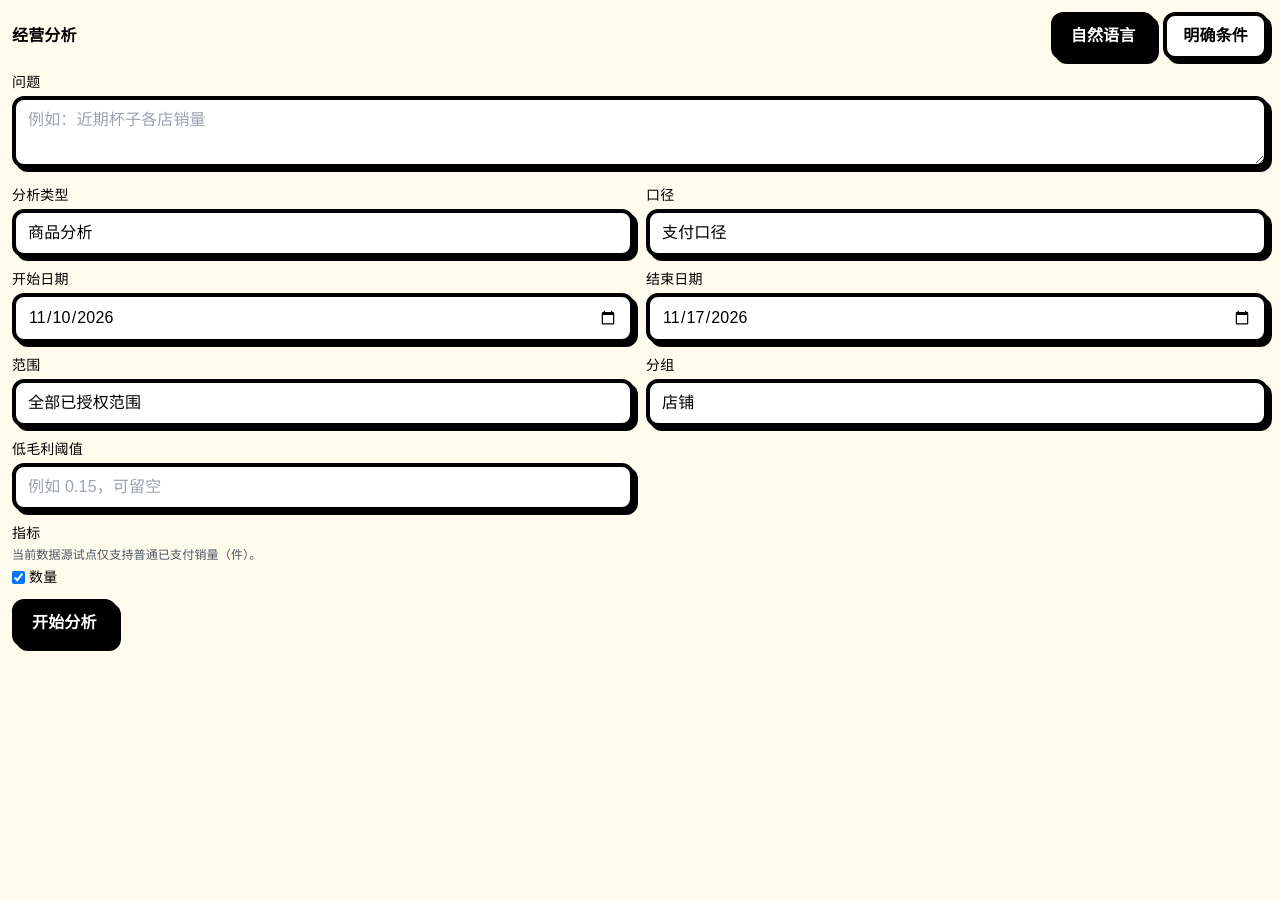
Test: one App source authority at consumer boundaries › a resolve accepted before sync cannot continue into create after the status changes
The image size is (1280, 900).
Type "晚回解析草稿" into the text box labelled "问题".
click(640, 132); type("晚回解析草稿")  # box x1=12 y1=96 x2=1268 y2=168
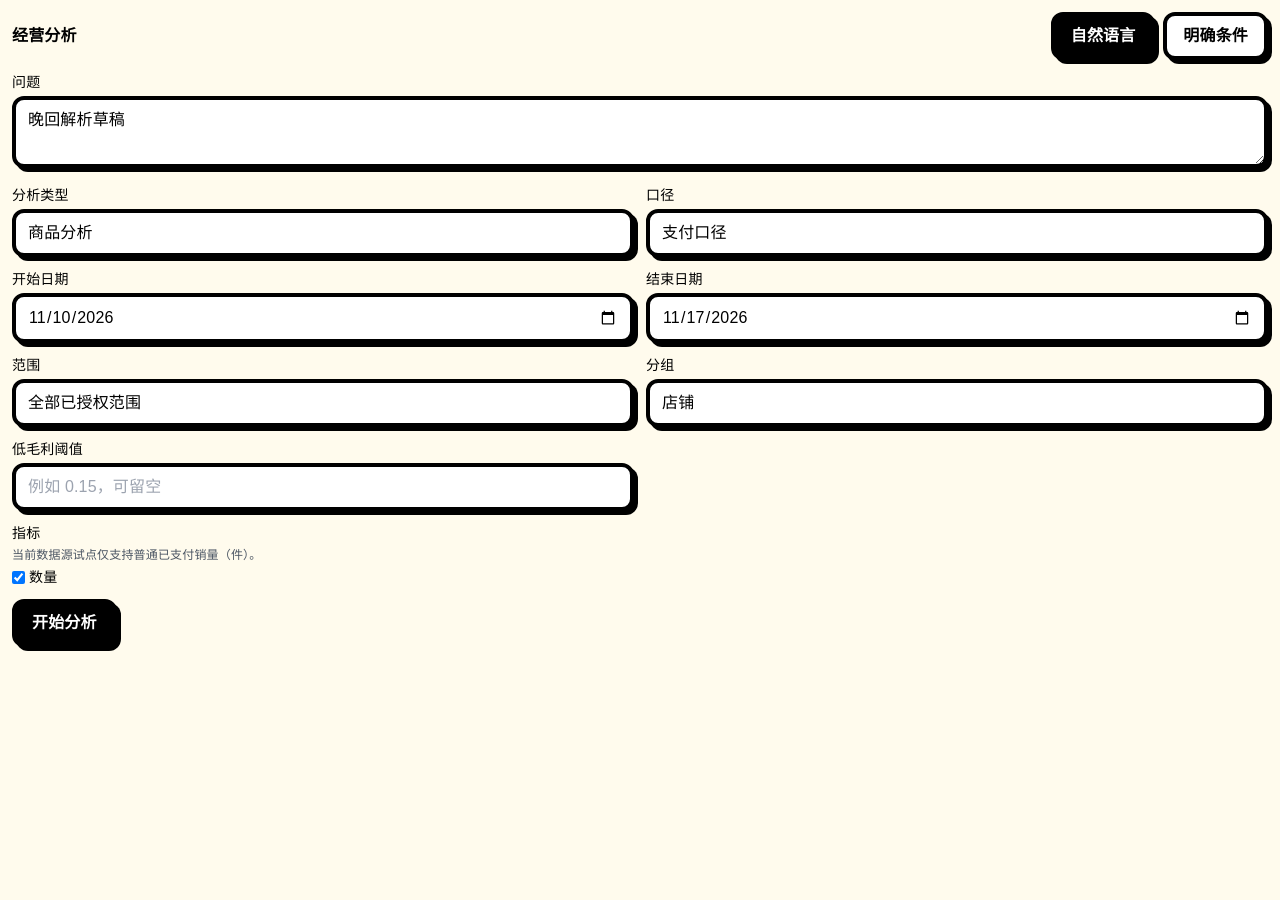
Submit the form "经营分析"
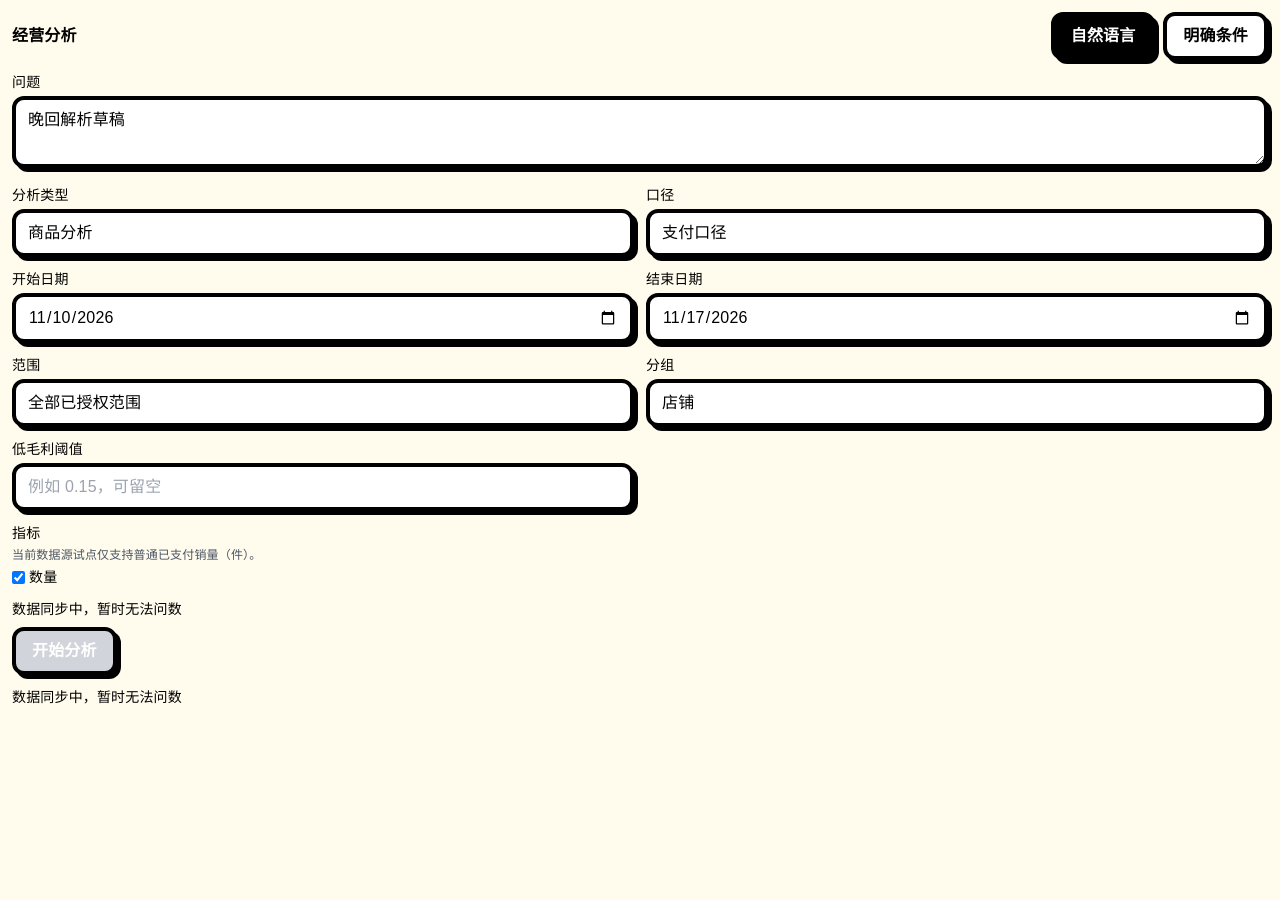
Now the 2nd message "数据同步中，暂时无法问数" is shown, box x1=12 y1=689 x2=182 y2=705
